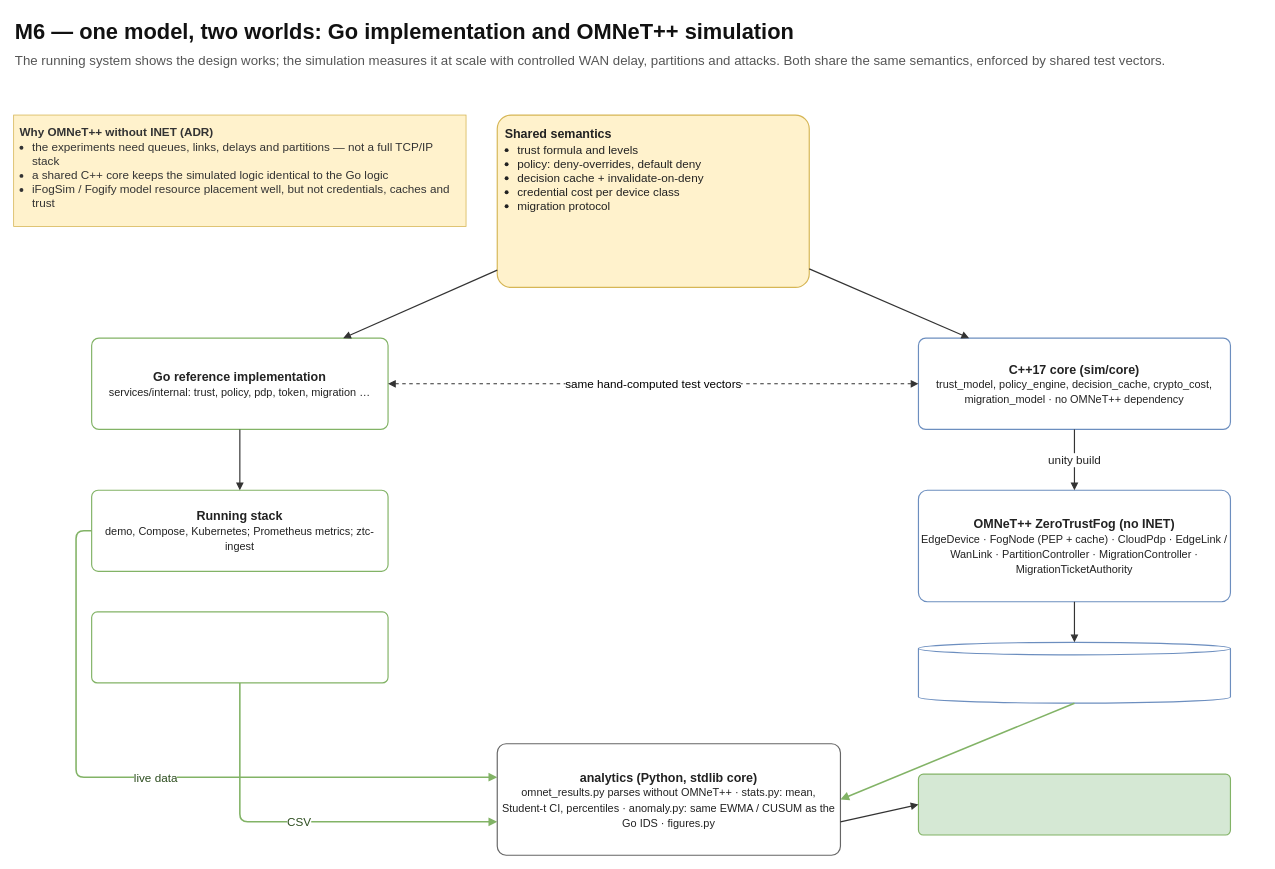
This 1275x869 diagram has some shape labels left out. Here are the shapes that lost their labels. From the top down, the centre of each, then its label:
the point at 239,647: ztc-migrate RQ3 experiment with the real migration code → CSV
the point at 1074,672: results .sca / .vec, N repetitions per config
the point at 1074,804: thesis figures + tables Docs/thesis, thesis/figures
